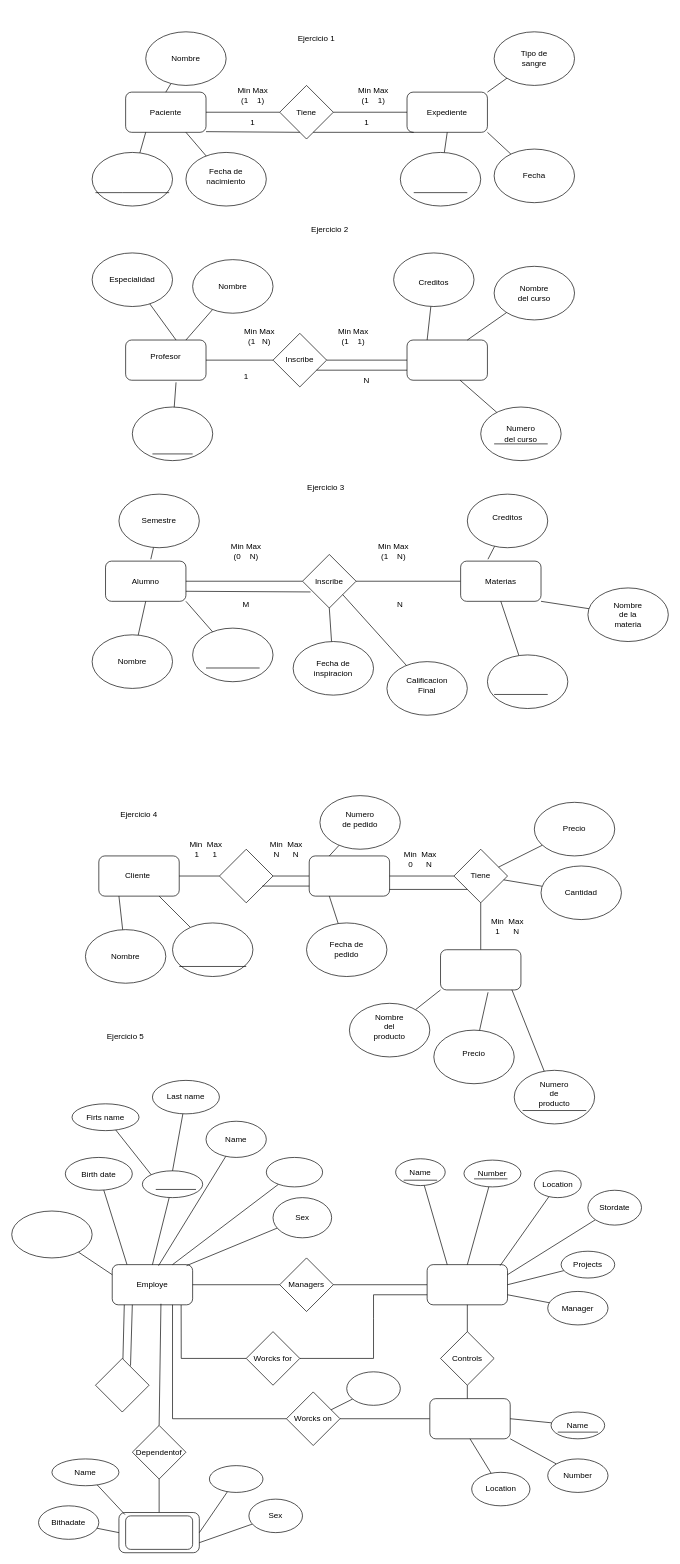
Image size: 680x1564. Some labels were removed from this diagram. The centre of each missing label's shape, as x and y in pixels:
Addres: (x=294, y=1172)
Clave de la meteria: (x=527, y=681)
Curso: (x=446, y=359)
Departament: (x=467, y=1284)
Dependet: (x=159, y=1532)
Hace: (x=246, y=876)
Hours: (x=373, y=1388)
Id del cliente: (x=212, y=949)
Id expediente: (x=440, y=179)
Id Paciente: (x=132, y=179)
Matricula: (x=232, y=654)
Numeo de profesor: (x=172, y=433)
Pedido: (x=349, y=875)
Producto: (x=480, y=969)
Project: (x=469, y=1418)
Relationship: (x=236, y=1478)
Salary: (x=51, y=1234)
SSN: (x=172, y=1184)
Supervision: (x=122, y=1385)
